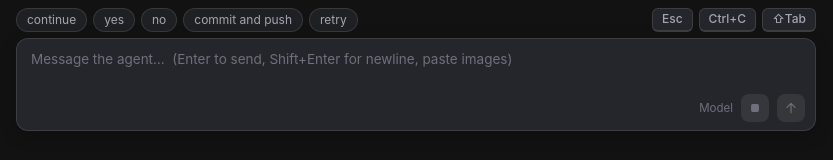
Test case: Composer completion › completes a file path with Tab
Step 1. Replace the text in the text box with "look at @src/x" → (418, 70), box [31,49,805,90]
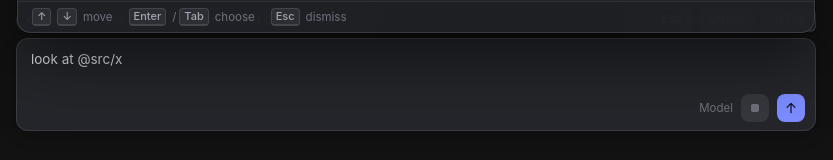
Step 2. Press Tab in the text box, box [31,49,805,90]
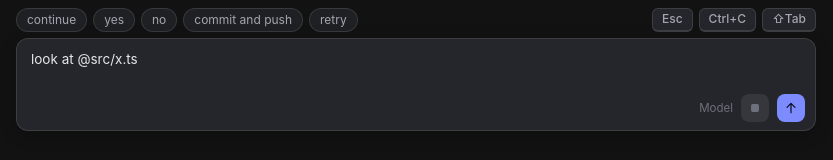
Expected: the text box holds "look at @src/x.ts ", [31,49,805,90]
